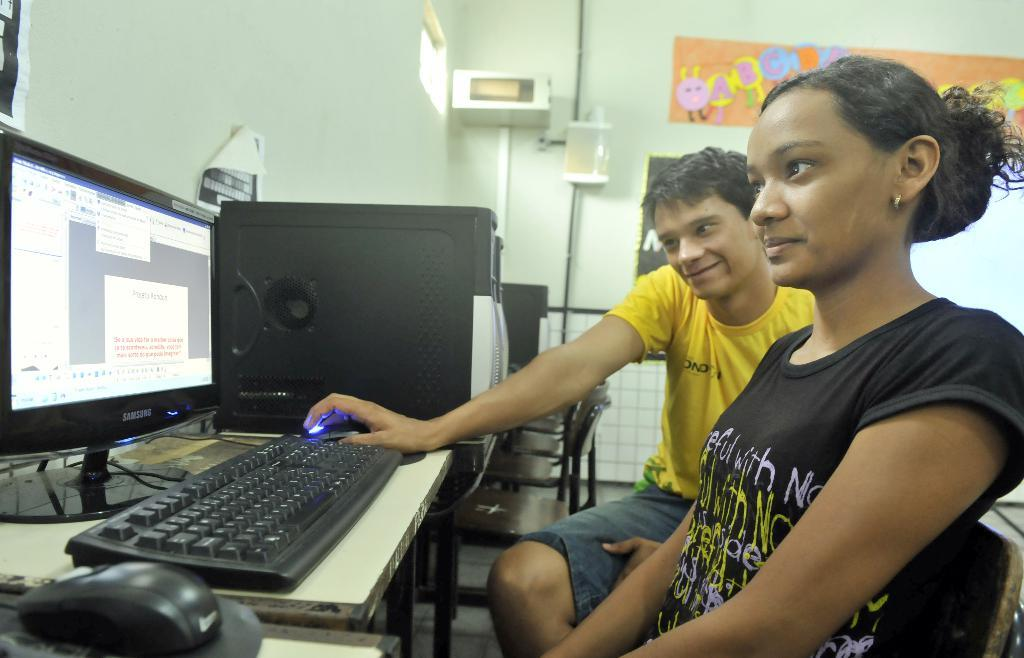Computer-mouse: (14, 558, 223, 653), (304, 418, 371, 446)
